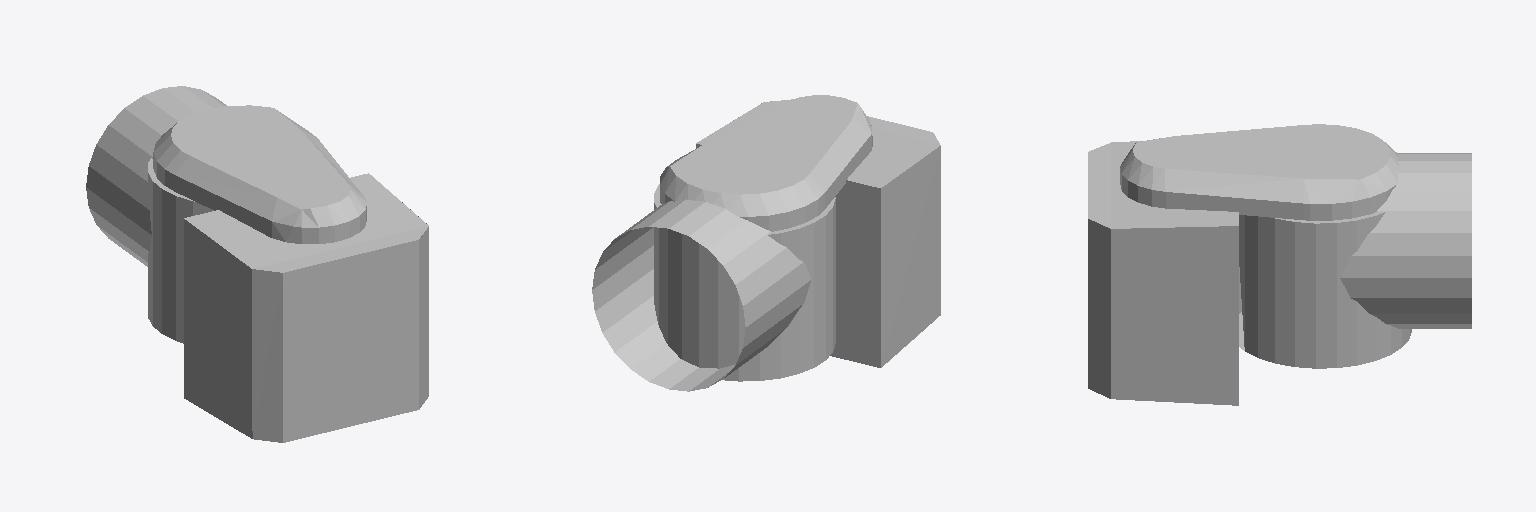
Rendered from RSY.obj.
The picture shows the model from 3 angles: view 1: azimuth 30°, elevation 25°; view 2: azimuth 150°, elevation 25°; view 3: azimuth 270°, elevation 25°; orthographic projection.
Parts seen in each view (by area): view 1: Shape_IndexedFaceSet.006_Shape_IndexedFaceSet.049, Shape_IndexedFaceSet.007_Shape_IndexedFaceSet.050, Shape_IndexedFaceSet.003_Shape_IndexedFaceSet.046, Shape_IndexedFaceSet.002_Shape_IndexedFaceSet.045, Shape_IndexedFaceSet.005_Shape_IndexedFaceSet.048; view 2: Shape_IndexedFaceSet.006_Shape_IndexedFaceSet.049, Shape_IndexedFaceSet.003_Shape_IndexedFaceSet.046, Shape_IndexedFaceSet.007_Shape_IndexedFaceSet.050, Shape_IndexedFaceSet.002_Shape_IndexedFaceSet.045, Shape_IndexedFaceSet.001_Shape_IndexedFaceSet.044; view 3: Shape_IndexedFaceSet.006_Shape_IndexedFaceSet.049, Shape_IndexedFaceSet.007_Shape_IndexedFaceSet.050, Shape_IndexedFaceSet.002_Shape_IndexedFaceSet.045, Shape_IndexedFaceSet.003_Shape_IndexedFaceSet.046.
Part boxes in pixels (x1,y1,x2,y2): Shape_IndexedFaceSet.006_Shape_IndexedFaceSet.049: (184,173,428,442); Shape_IndexedFaceSet.007_Shape_IndexedFaceSet.050: (153,105,366,243); Shape_IndexedFaceSet.003_Shape_IndexedFaceSet.046: (86,86,226,266); Shape_IndexedFaceSet.002_Shape_IndexedFaceSet.045: (148,158,213,343); Shape_IndexedFaceSet.005_Shape_IndexedFaceSet.048: (252,269,282,442); Shape_IndexedFaceSet.006_Shape_IndexedFaceSet.049: (696,99,940,367); Shape_IndexedFaceSet.003_Shape_IndexedFaceSet.046: (592,199,811,391); Shape_IndexedFaceSet.007_Shape_IndexedFaceSet.050: (660,95,872,231); Shape_IndexedFaceSet.002_Shape_IndexedFaceSet.045: (654,184,835,381); Shape_IndexedFaceSet.001_Shape_IndexedFaceSet.044: (683,234,698,366); Shape_IndexedFaceSet.006_Shape_IndexedFaceSet.049: (1088,141,1238,405); Shape_IndexedFaceSet.007_Shape_IndexedFaceSet.050: (1120,124,1398,220); Shape_IndexedFaceSet.002_Shape_IndexedFaceSet.045: (1239,212,1411,368); Shape_IndexedFaceSet.003_Shape_IndexedFaceSet.046: (1340,153,1471,328).
Bounding box in the file's own units: 0.0867 × 0.0938 × 0.156.